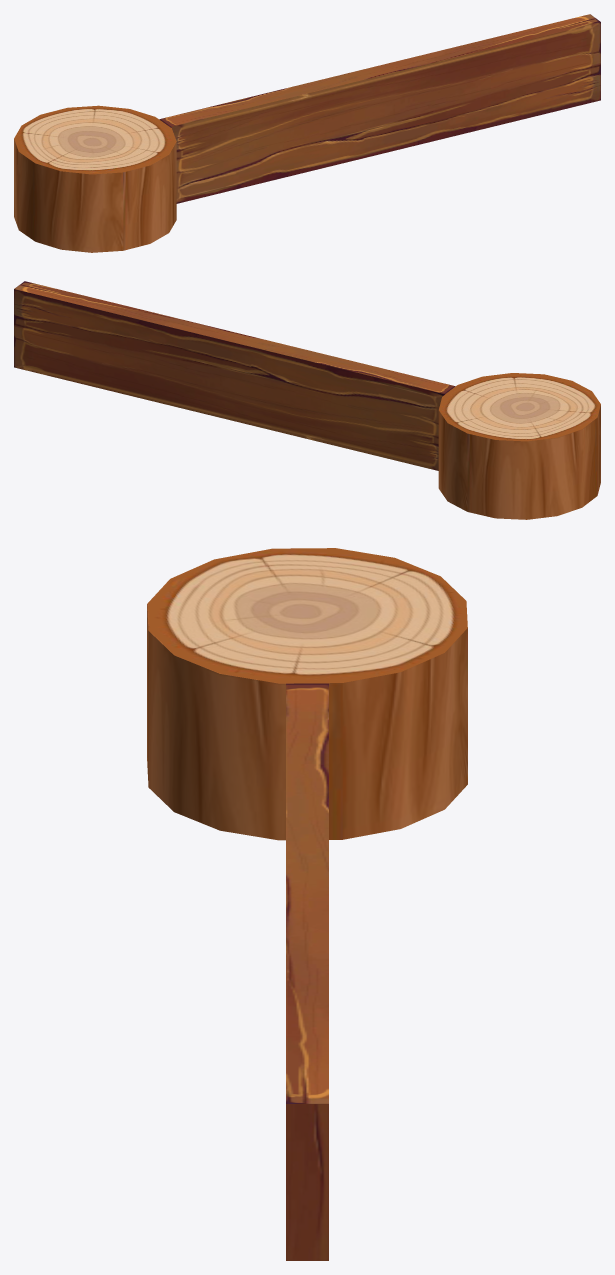
File: one_blade_wood_03.fbx
3 views of the same model, one above another, from view 1: azimuth 30°, elevation 25°; view 2: azimuth 150°, elevation 25°; view 3: azimuth 270°, elevation 25° (orthographic). The views are drawn at different scales.
Visible parts, largest first — view 1: one_blade_wood_03; view 2: one_blade_wood_03; view 3: one_blade_wood_03.
Boxes of the visible parts, x1,y1,x2,y2 form: one_blade_wood_03: (14,14,600,252); one_blade_wood_03: (14,281,600,519); one_blade_wood_03: (147,548,467,1260).
Size of the model in its own units: 304 by 40 by 74.15.
